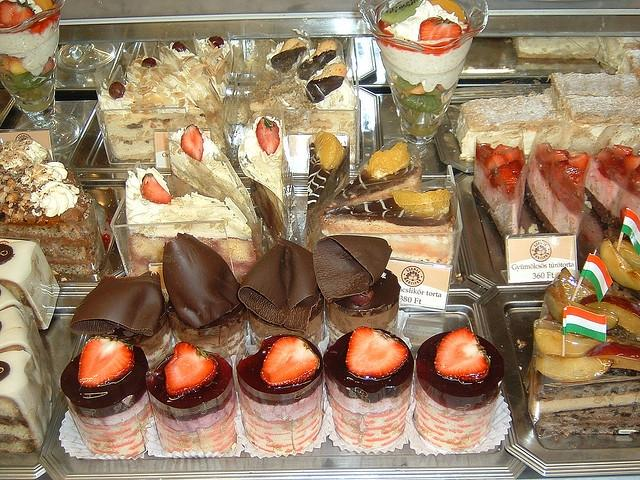grape: (109, 82, 126, 98), (208, 36, 224, 48), (172, 41, 186, 52), (142, 58, 156, 68)
kiwi: (396, 92, 447, 114), (380, 0, 423, 25), (11, 72, 52, 91)
strawberry: (345, 326, 409, 378), (78, 331, 136, 388), (434, 328, 492, 380), (261, 337, 320, 387), (164, 342, 218, 396), (595, 144, 640, 197), (418, 15, 462, 40), (141, 173, 174, 204), (0, 0, 36, 26), (256, 117, 280, 155), (180, 124, 203, 162), (568, 152, 590, 176), (492, 164, 514, 186), (564, 164, 584, 185), (39, 57, 55, 76), (491, 152, 509, 168), (504, 146, 520, 164), (40, 18, 52, 34), (102, 234, 111, 252), (49, 10, 60, 23)
